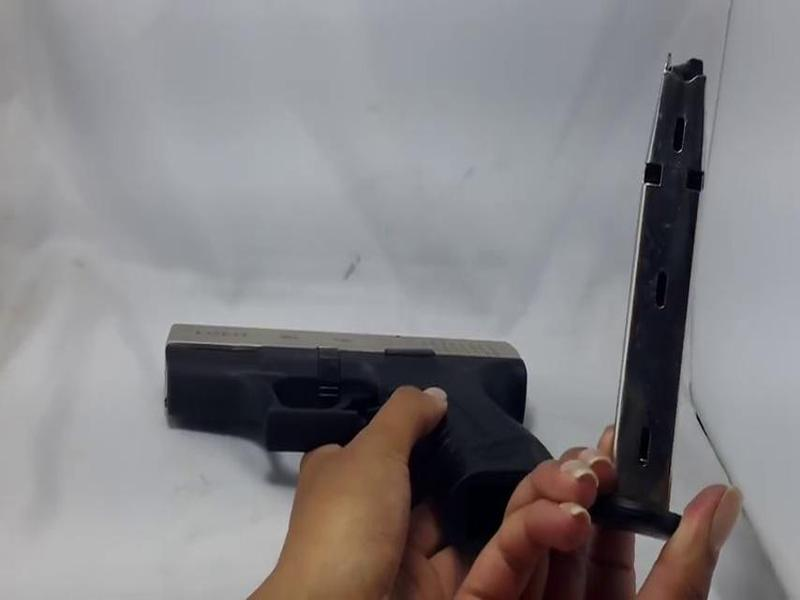Pistola: (133, 314, 607, 562)
